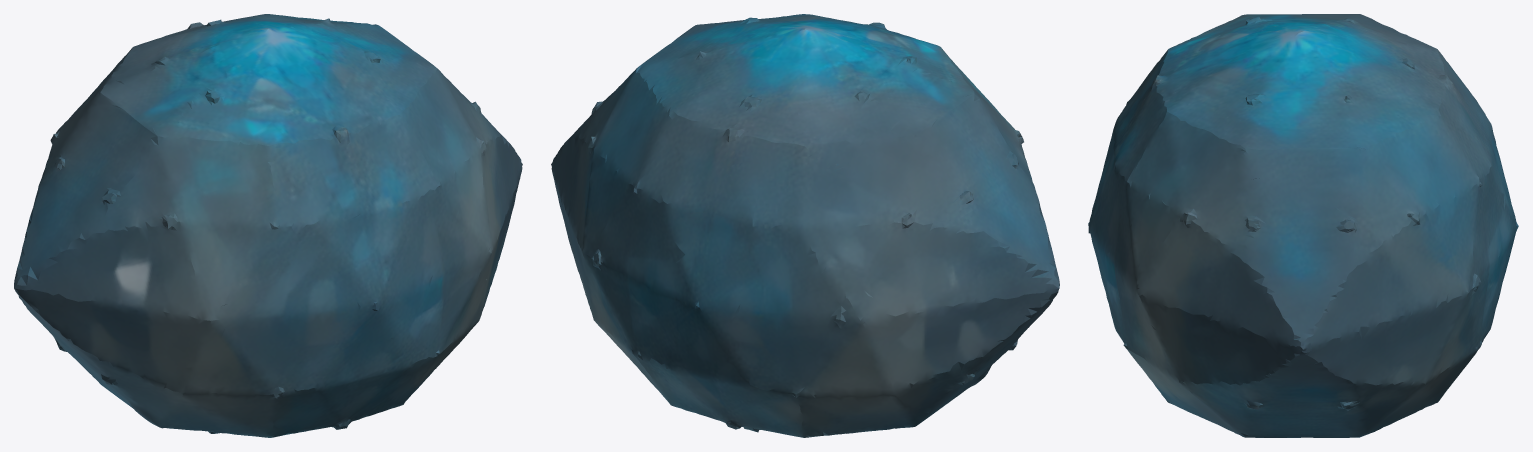
File: nova_engine_aux.glb
3 views of the same model, side by side, from view 1: azimuth 30°, elevation 25°; view 2: azimuth 150°, elevation 25°; view 3: azimuth 270°, elevation 25° (orthographic).
Parts seen in each view (by area): view 1: nova_engine_aux; view 2: nova_engine_aux; view 3: nova_engine_aux.
Part boxes in pixels (bbox=[...]): nova_engine_aux: bbox=[14, 14, 522, 437]; nova_engine_aux: bbox=[551, 14, 1059, 437]; nova_engine_aux: bbox=[1088, 14, 1518, 437].
Size of the model in its own units: 1.89 by 1.4 by 1.4.
Materials: 1 (1 with a texture image).
